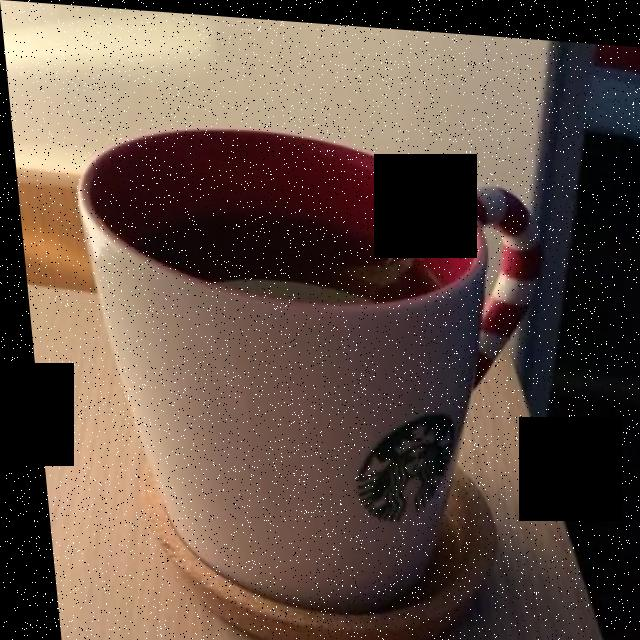herbal-tea: (136, 204, 429, 298)
